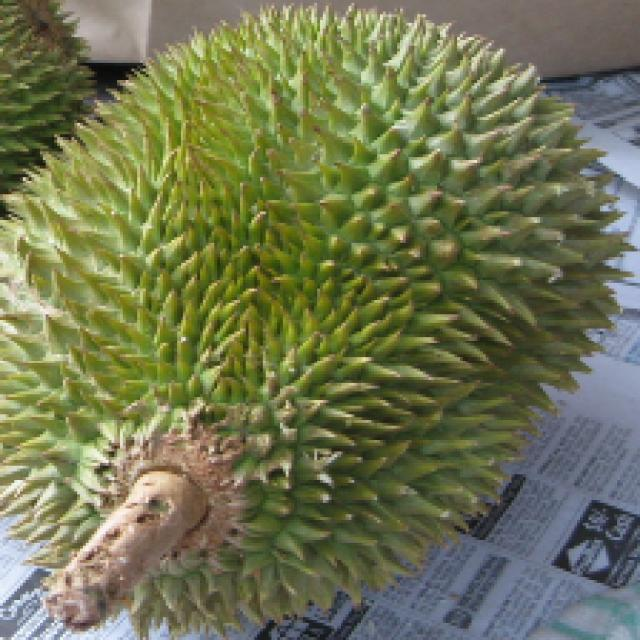d24: (35, 34, 608, 598)
